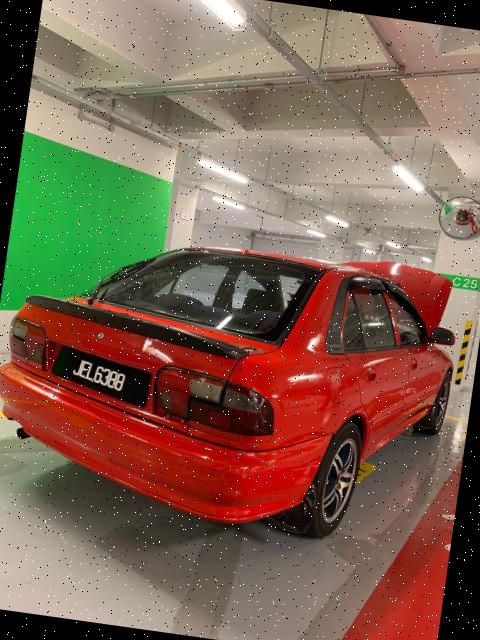License_Plate: (53, 349, 141, 409)
car: (1, 208, 480, 562)
